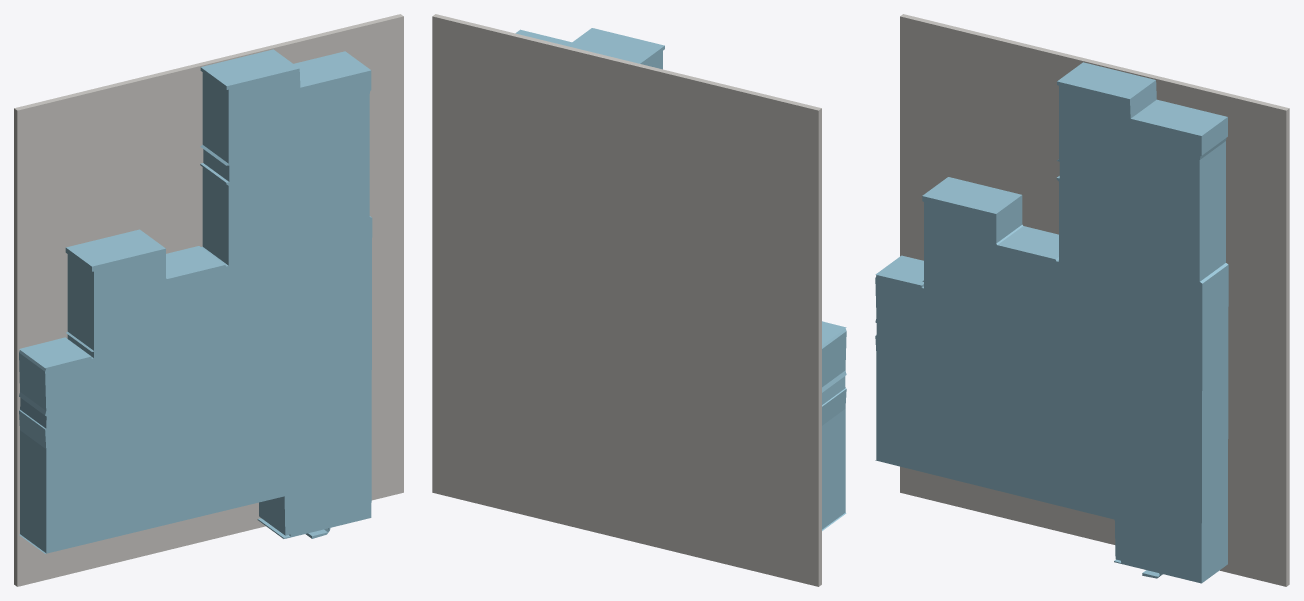
3 renders of one model, left to right at view 1: azimuth 30°, elevation 25°; view 2: azimuth 150°, elevation 25°; view 3: azimuth 330°, elevation 25°, orthographic.
Visible parts, largest first — view 1: world; view 2: world; view 3: world.
Part boxes in pixels (x1=…): world: x1=14, y1=14, x2=403, y2=586; world: x1=432, y1=14, x2=846, y2=586; world: x1=875, y1=14, x2=1289, y2=586.
Size of the model in its own units: 10.23 by 12.05 by 1.35.
